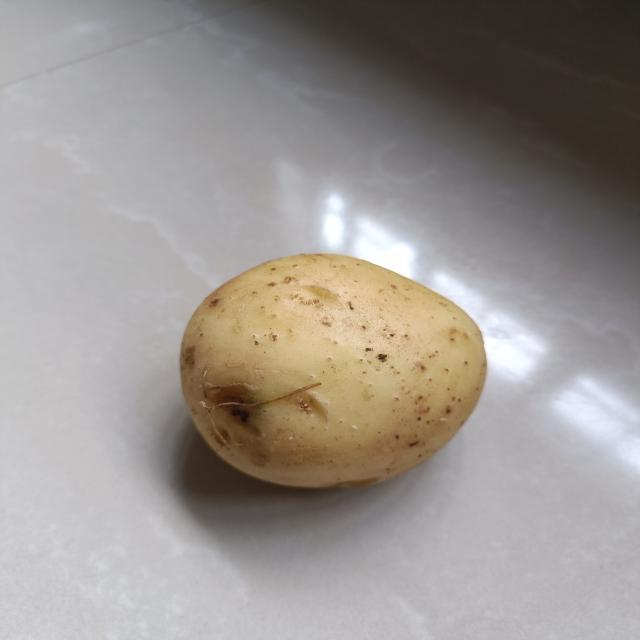potato: (176, 248, 494, 498)
